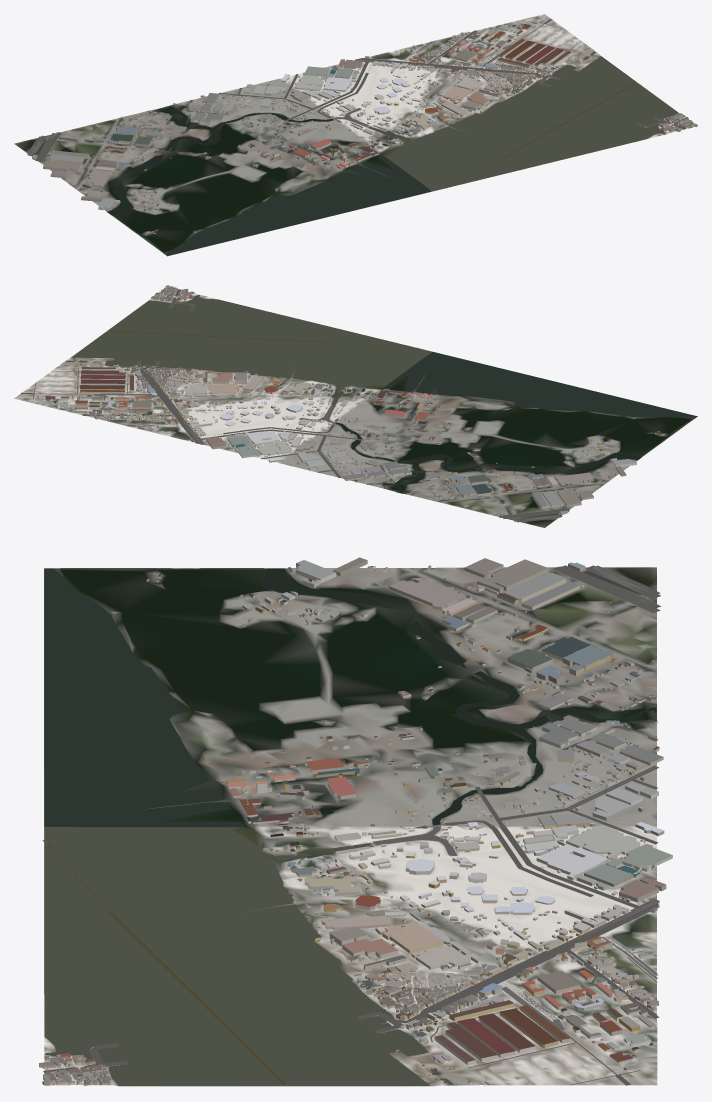
3 views of the same model, one above another, from view 1: azimuth 30°, elevation 25°; view 2: azimuth 150°, elevation 25°; view 3: azimuth 270°, elevation 25° (orthographic). The views are drawn at different scales.
Visible parts, largest first — view 1: ground, water, buildings, roads; view 2: ground, water, buildings, roads; view 3: ground, water, buildings, roads.
Boxes of the visible parts, box(x1,y1,x2,y2) form: ground: box(14, 14, 694, 256); water: box(107, 51, 678, 255); buildings: box(32, 21, 697, 234); roads: box(27, 18, 685, 162); ground: box(14, 289, 697, 527); water: box(66, 295, 696, 493); buildings: box(36, 285, 664, 514); roads: box(21, 289, 569, 522); ground: box(44, 567, 657, 1086); water: box(42, 568, 656, 1085); buildings: box(39, 557, 672, 1085); roads: box(43, 565, 660, 1085).
Size of the model in its own units: 2842 by 29.14 by 1449.
